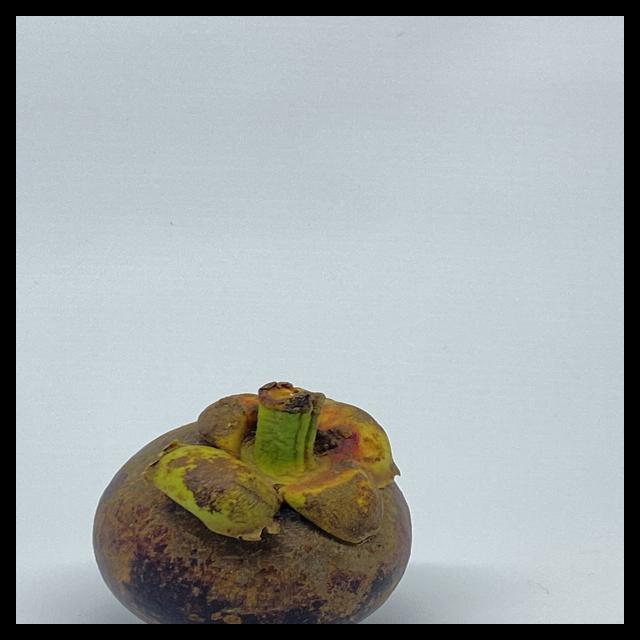mangosteen: (100, 346, 444, 624)
